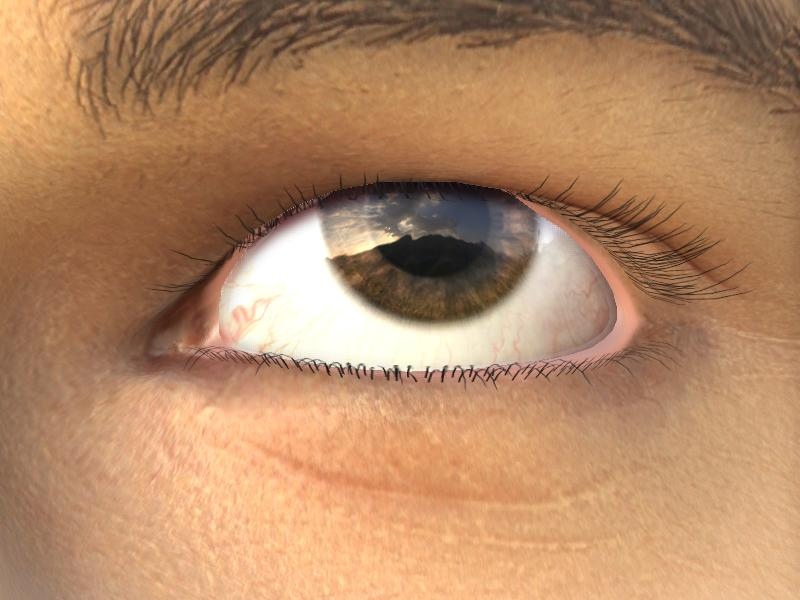eye: (317, 180, 536, 322)
